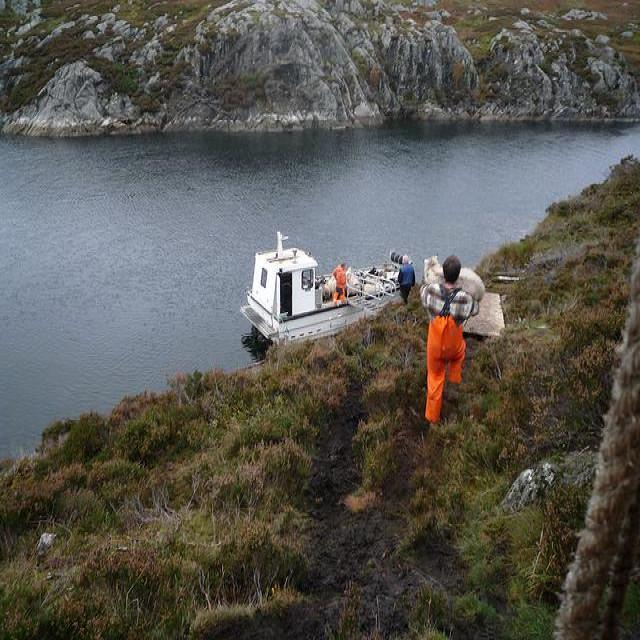Sheep: (423, 253, 486, 304)
